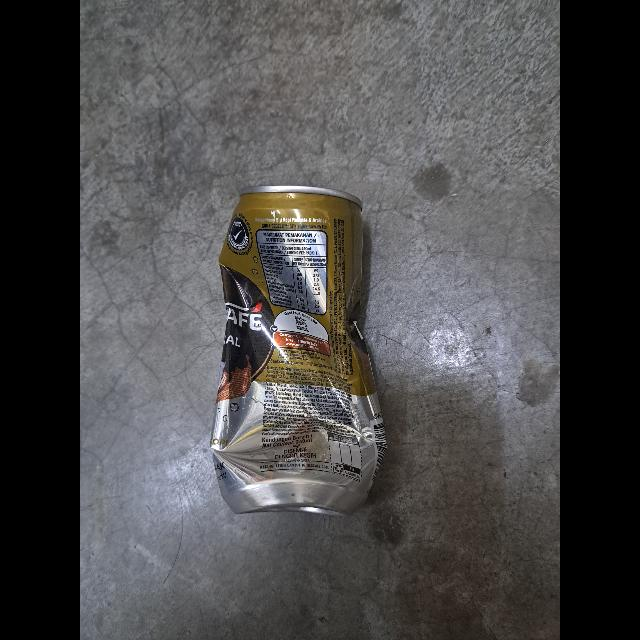lata: (212, 180, 388, 516)
